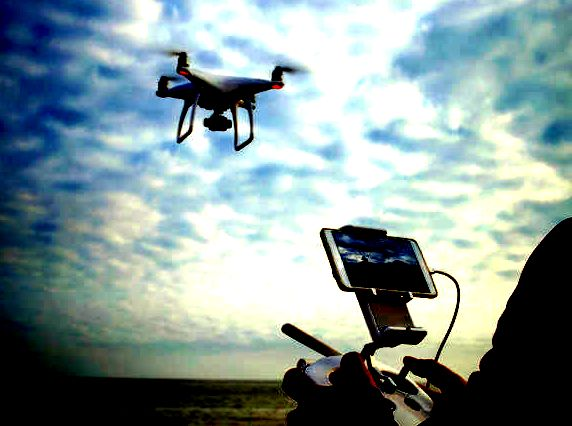Drone: (144, 43, 304, 154)
